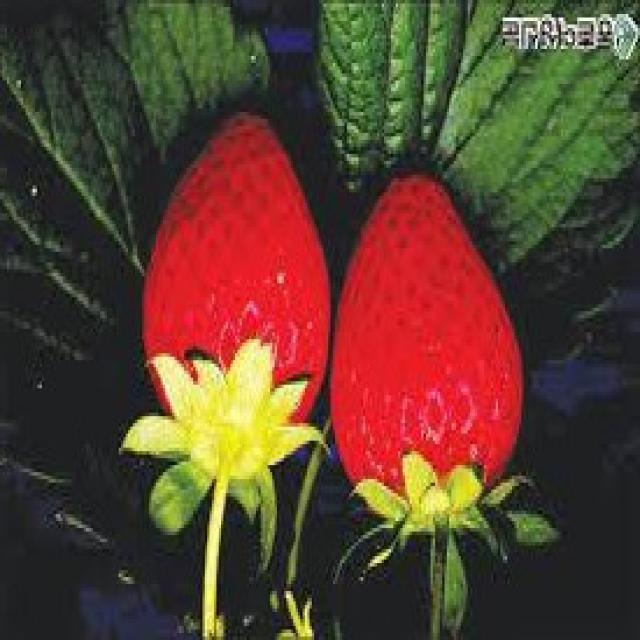mature: (329, 172, 523, 502), (144, 111, 332, 426)
